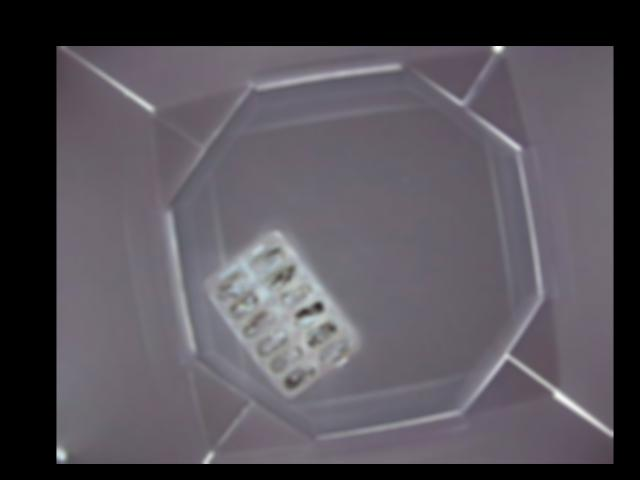Medicine: (202, 230, 355, 396)
